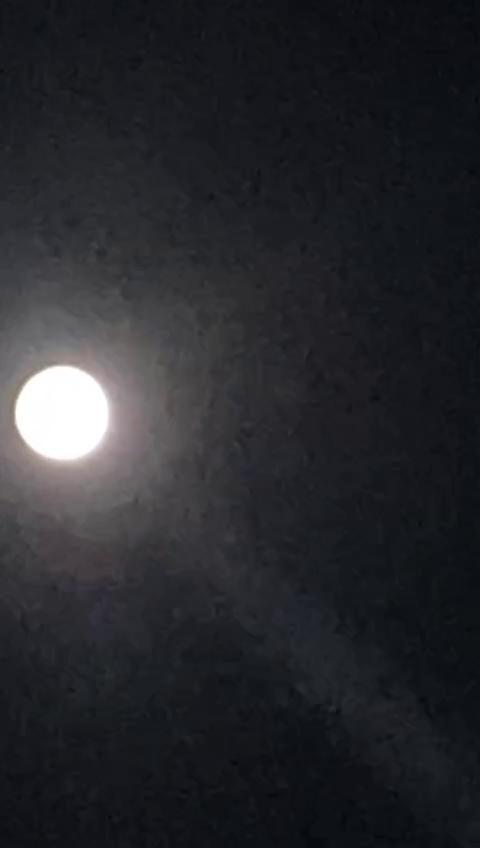moon: (11, 362, 124, 475)
